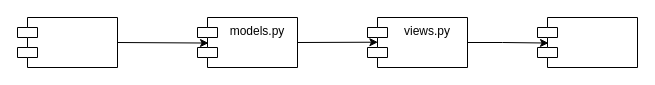
Image size: 655x85. Some labels were removed from this diagram. Each missing label, with the centre of its shape:
manage.py: point 67,42
urls.py: point 587,42
